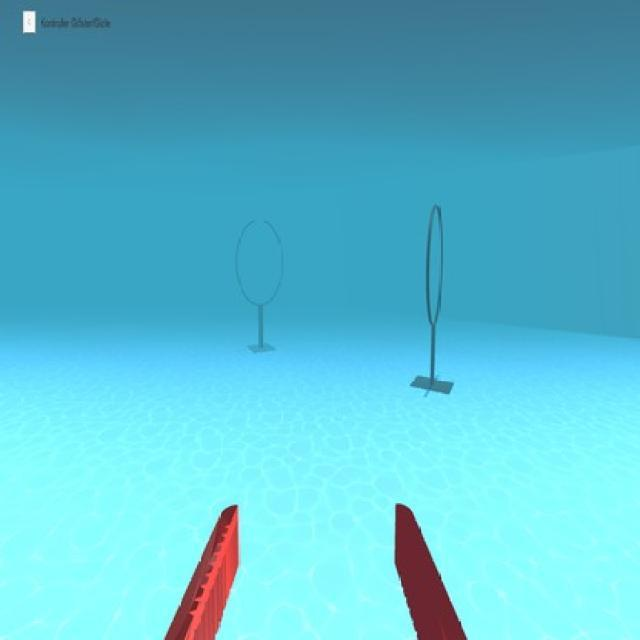Circle: (235, 215, 288, 308), (422, 200, 450, 331)
